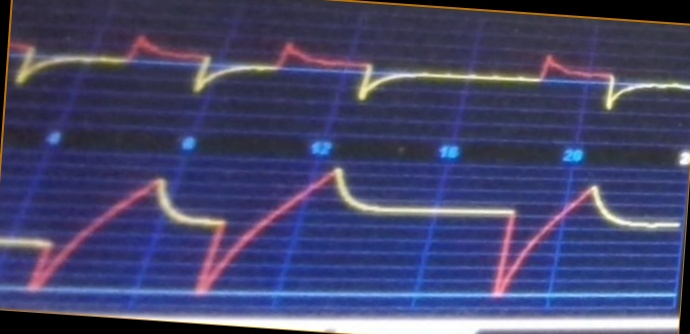Flow: (10, 26, 690, 120)
Leakage Volume: (1, 166, 677, 301)
